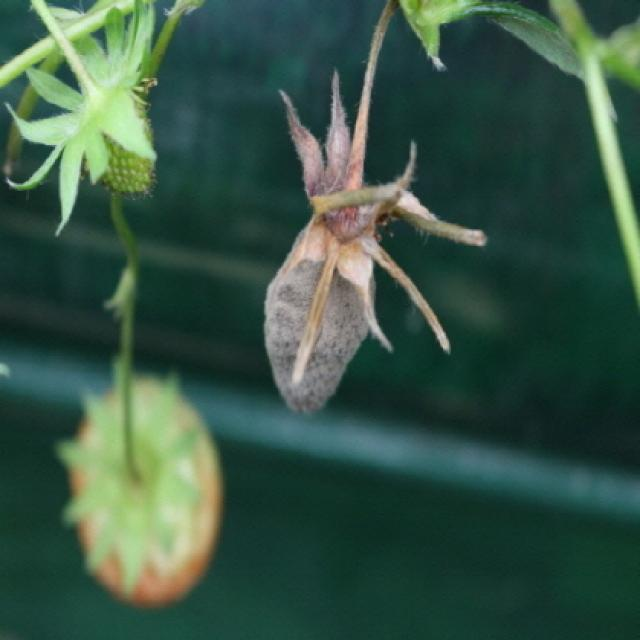Gray Mold: (261, 70, 414, 417)
